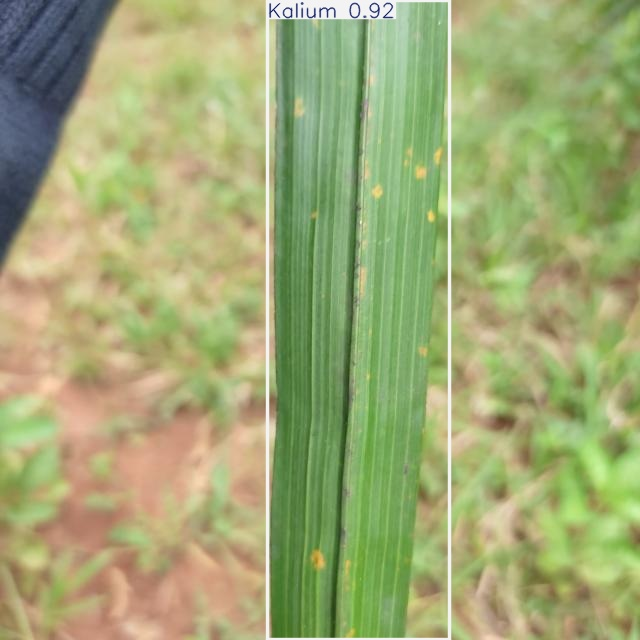Kalium: (267, 0, 450, 640)
